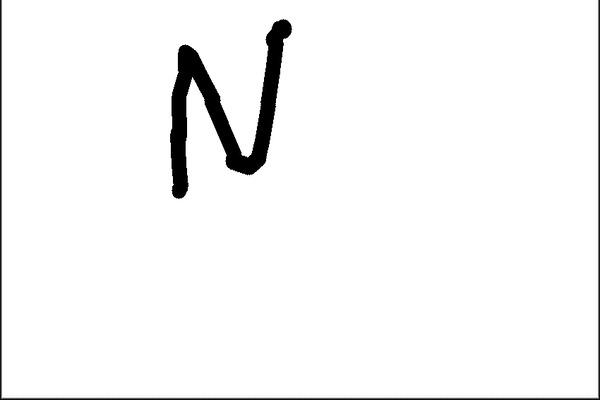N: (163, 11, 294, 201)
